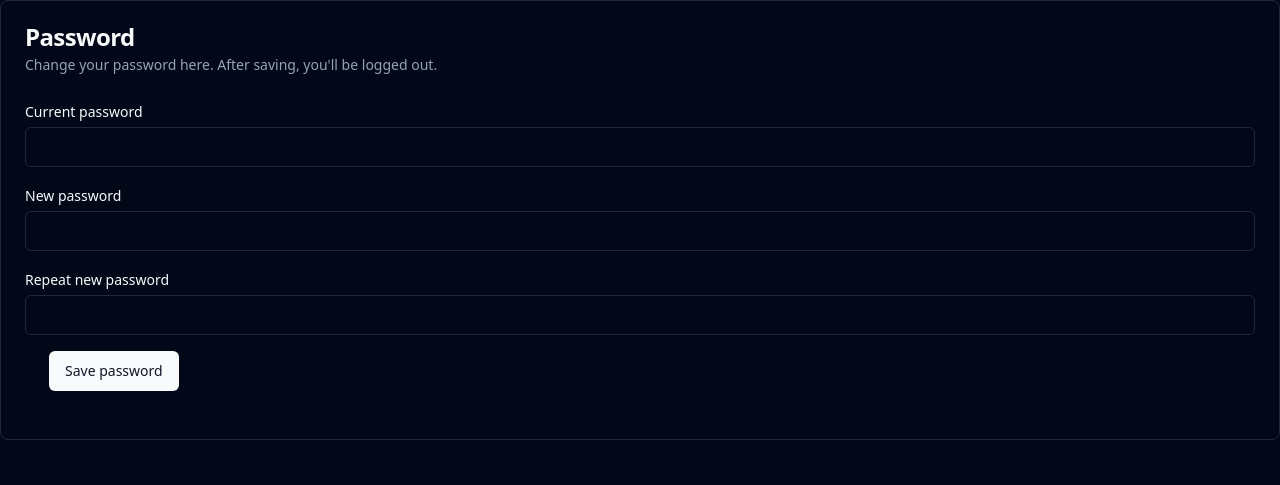
PasswordTab › displays an error if new password is the same as current password
Type "samepassword" into the password field labelled "Current password".
click(640, 147); type("samepassword")  # box left=25, top=127, right=1255, bottom=167
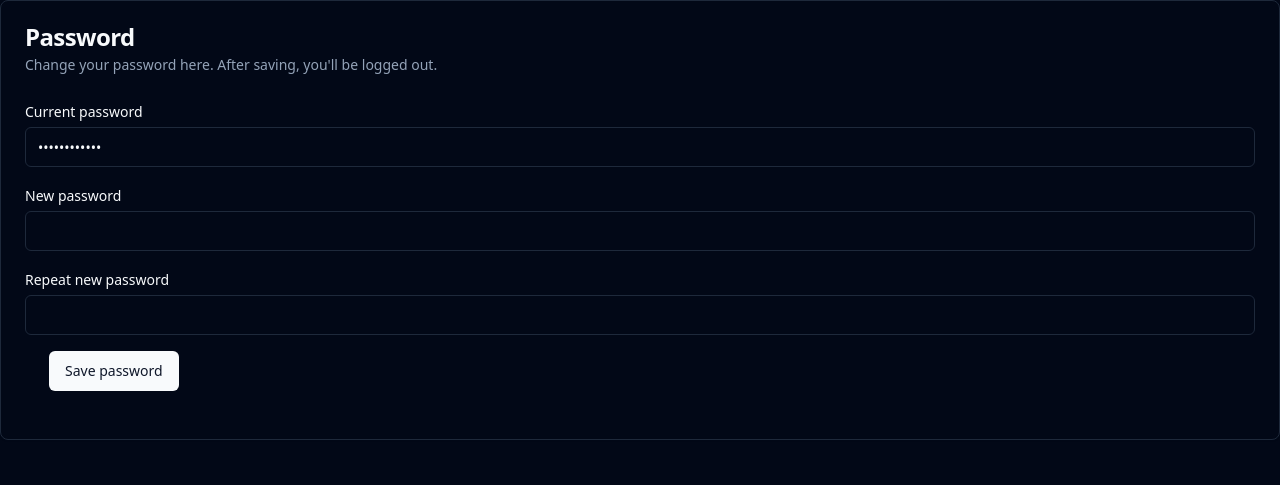
Type "samepassword" into the password field labelled "New password".
click(640, 231); type("samepassword")  # box left=25, top=211, right=1255, bottom=251
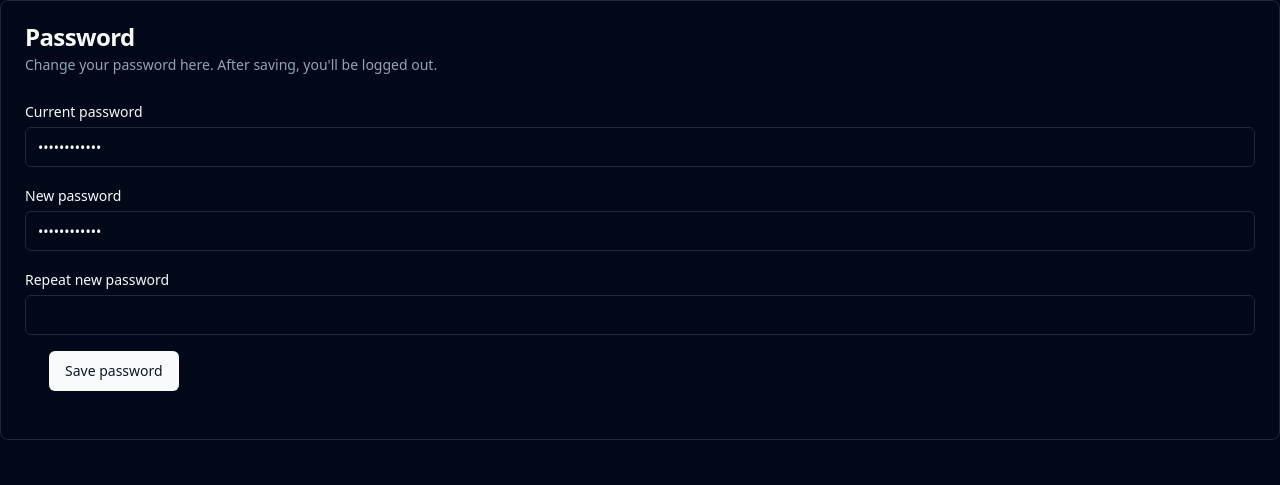
Type "samepassword" into the password field labelled "Repeat new password".
click(640, 315); type("samepassword")  # box left=25, top=295, right=1255, bottom=335
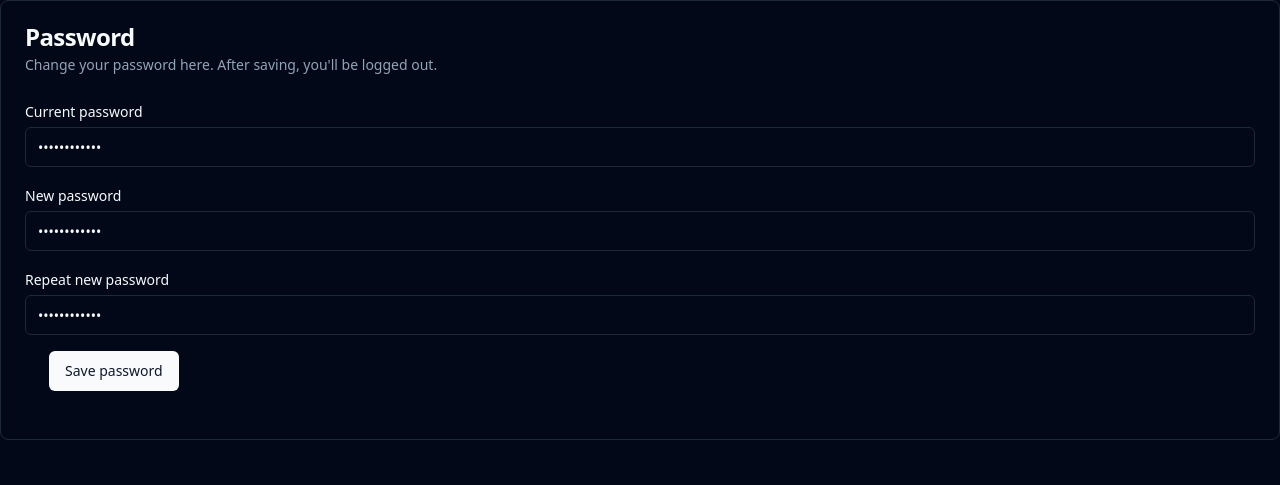
Click the button "Save password".
click(114, 371)  # box left=49, top=351, right=179, bottom=391
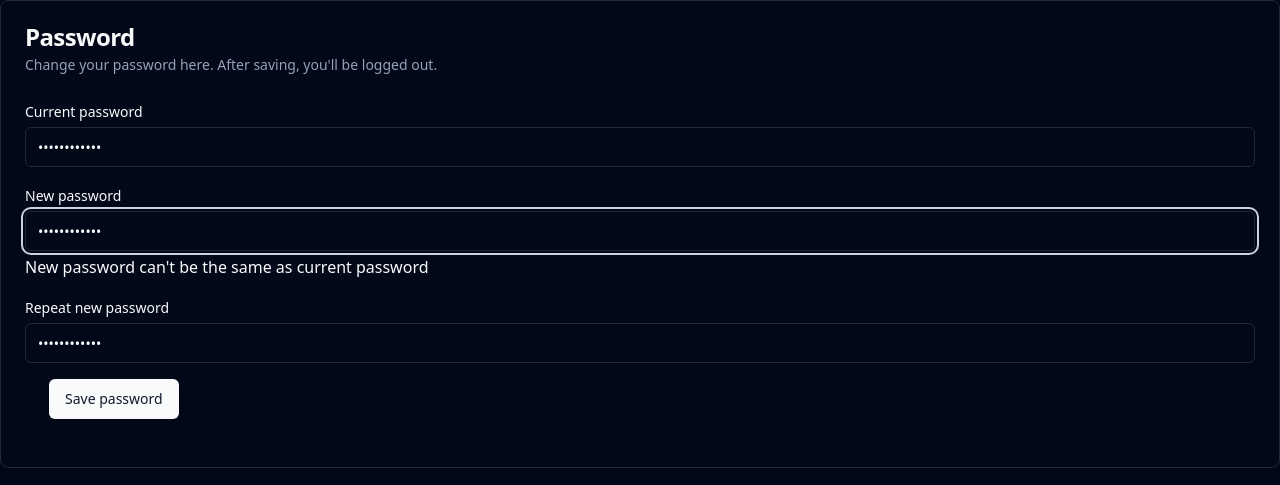
Result: the text "New password can't be the same as current password" is shown at left=25, top=256, right=428, bottom=278
